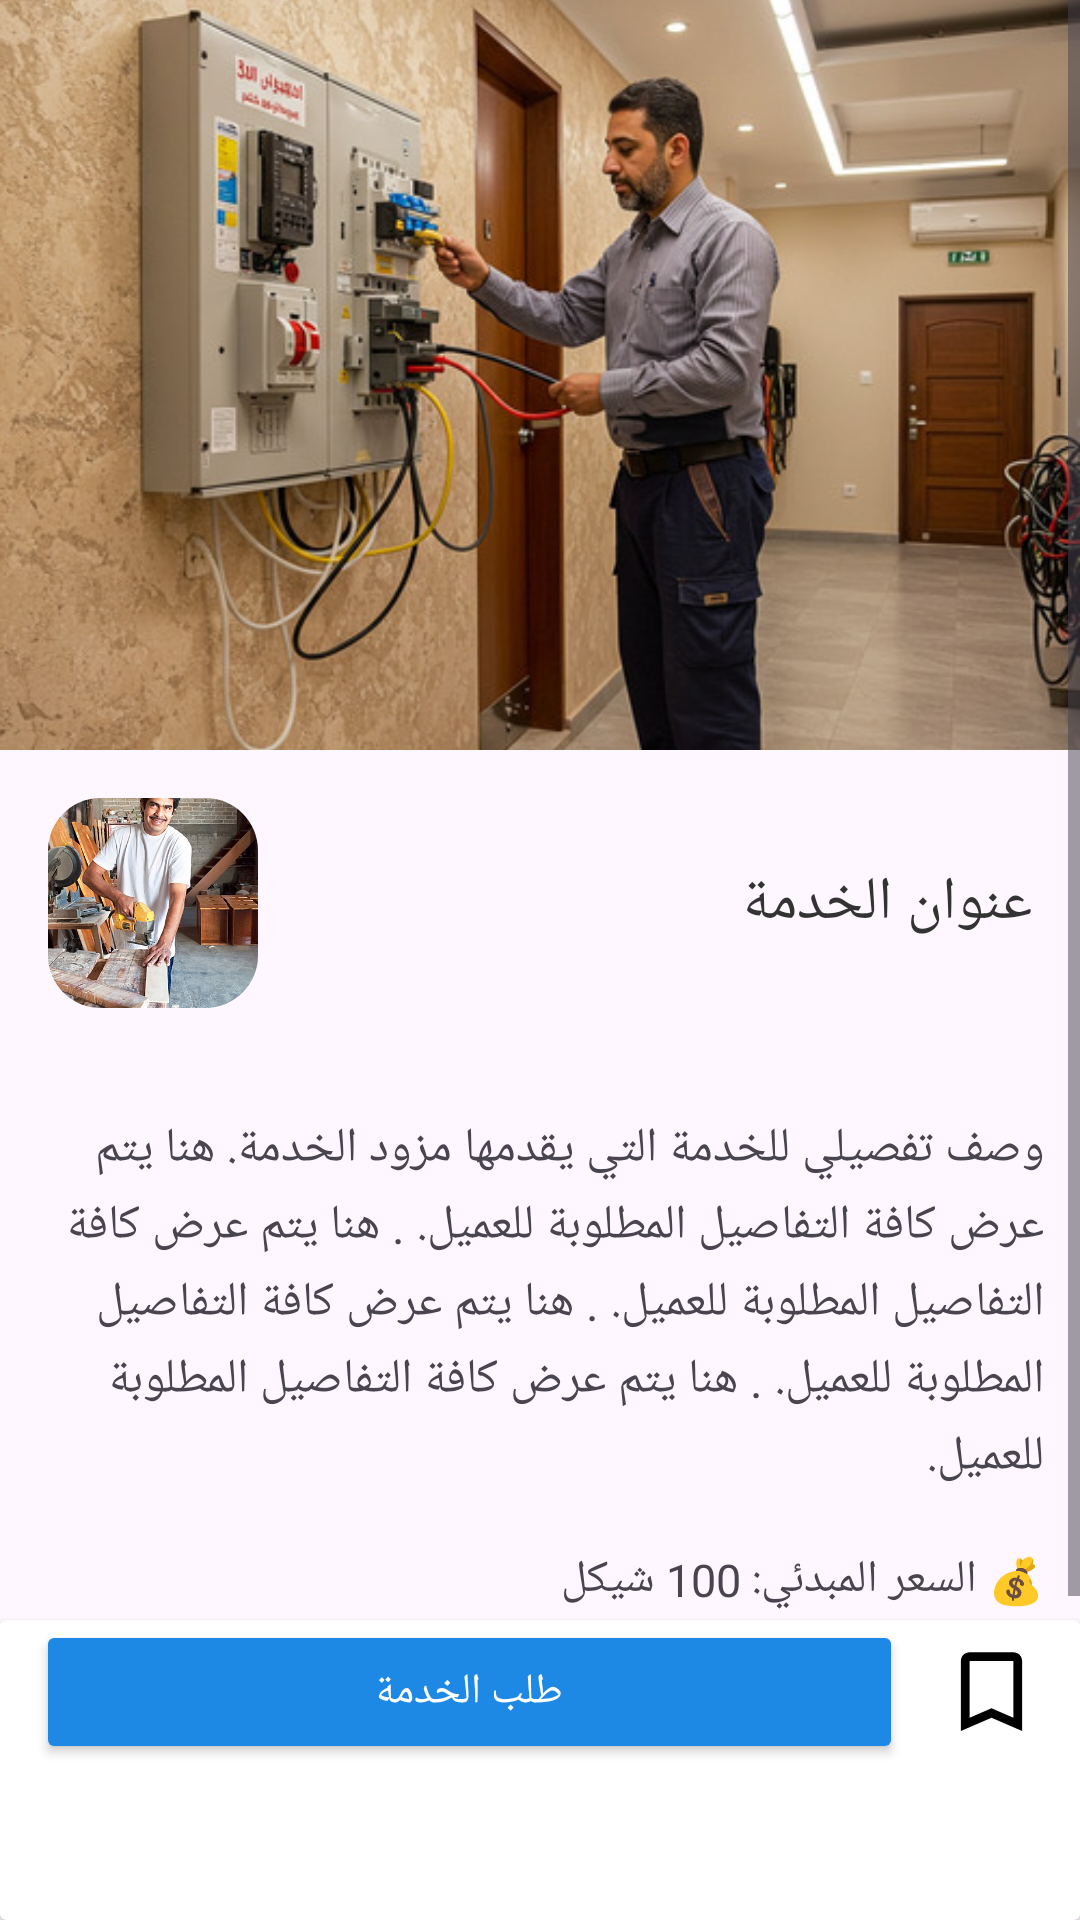

Icons on this 1080×1920 Android screen, each with the point to tap as (x=x, y=y):
bookmark border: (x=991, y=1691)
